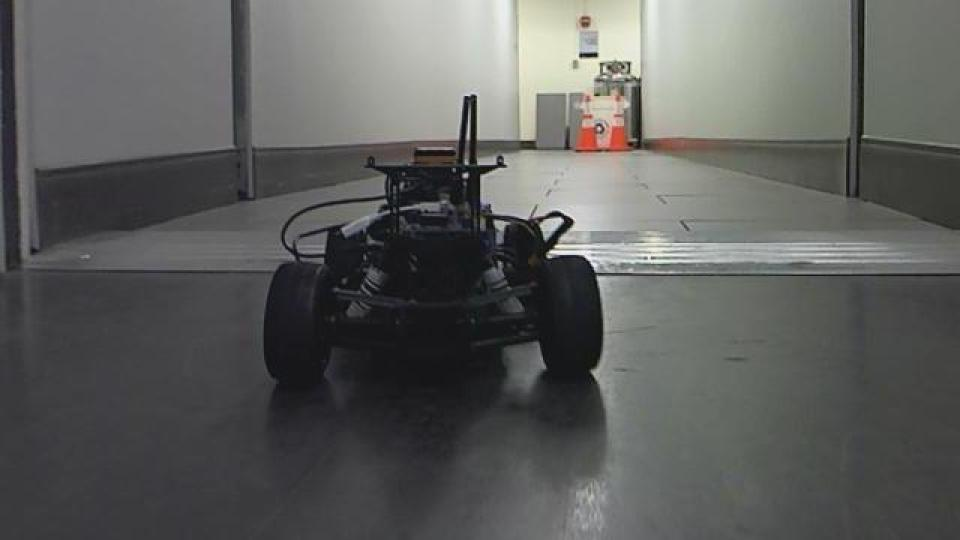car: (258, 92, 606, 390)
